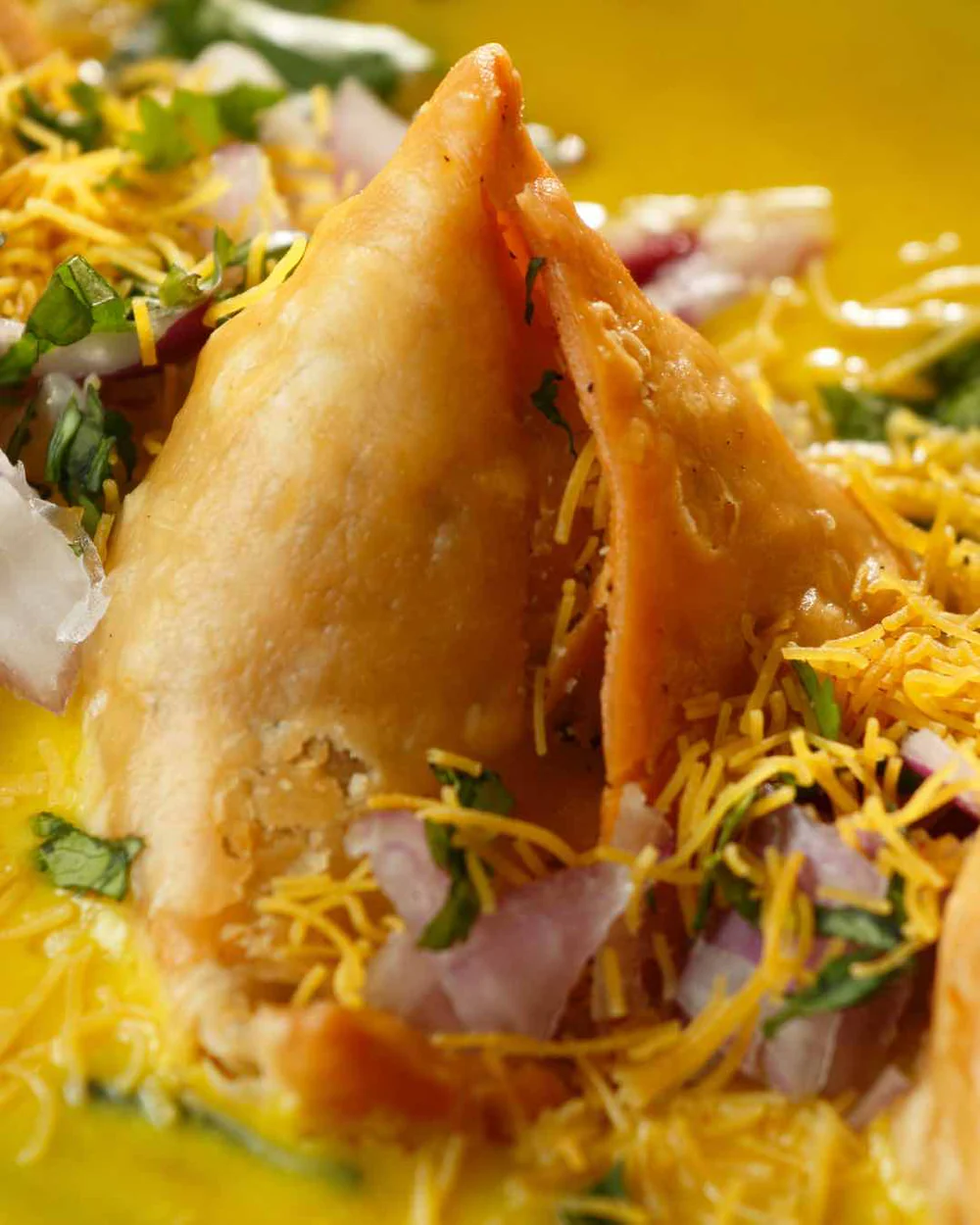samosa: (101, 42, 875, 1078)
